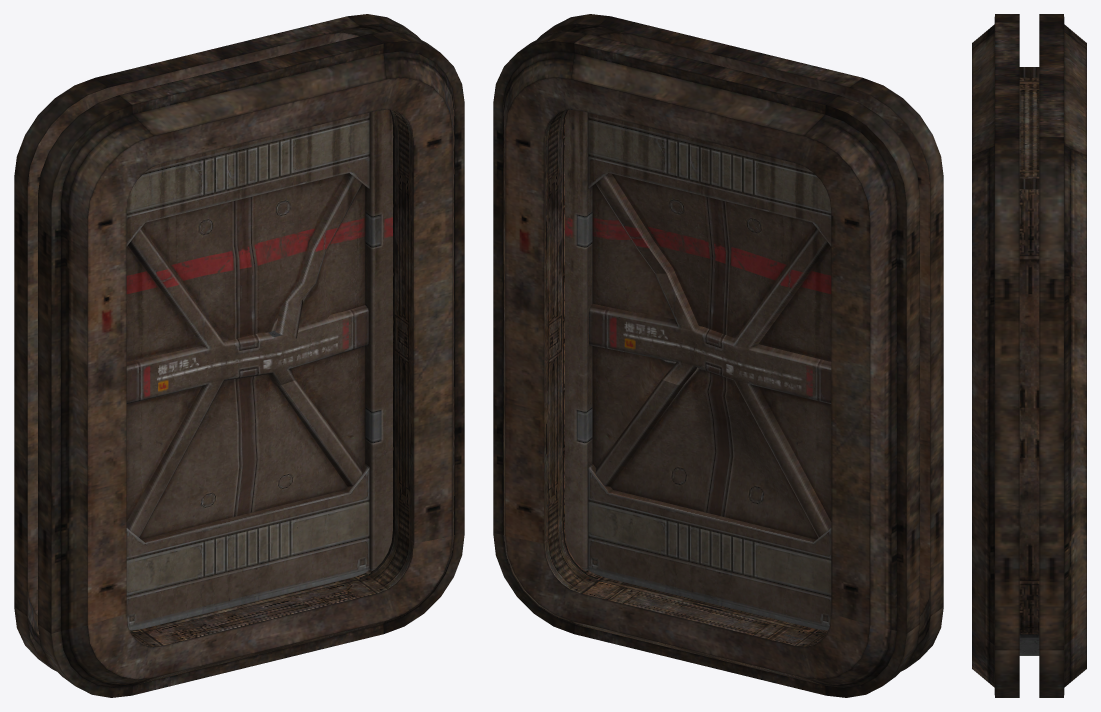
File: slidedoor_theta_tunnels_battered01.dae
3 views of the same model, side by side, from view 1: azimuth 30°, elevation 25°; view 2: azimuth 150°, elevation 25°; view 3: azimuth 270°, elevation 25° (orthographic). The views are drawn at different scales.
Parts seen in each view (by area): view 1: frame, polySurface23; view 2: frame, polySurface23; view 3: frame, polySurface23.
Part boxes in pixels (bbox=[...]): frame: bbox=[14, 14, 464, 697]; polySurface23: bbox=[126, 109, 392, 630]; frame: bbox=[493, 14, 943, 697]; polySurface23: bbox=[565, 109, 831, 630]; frame: bbox=[972, 14, 1086, 697]; polySurface23: bbox=[1019, 67, 1039, 655].
Bounding box in the file's own units: 2.53 × 3.46 × 0.6509.
Materials: 2 (2 with a texture image).
